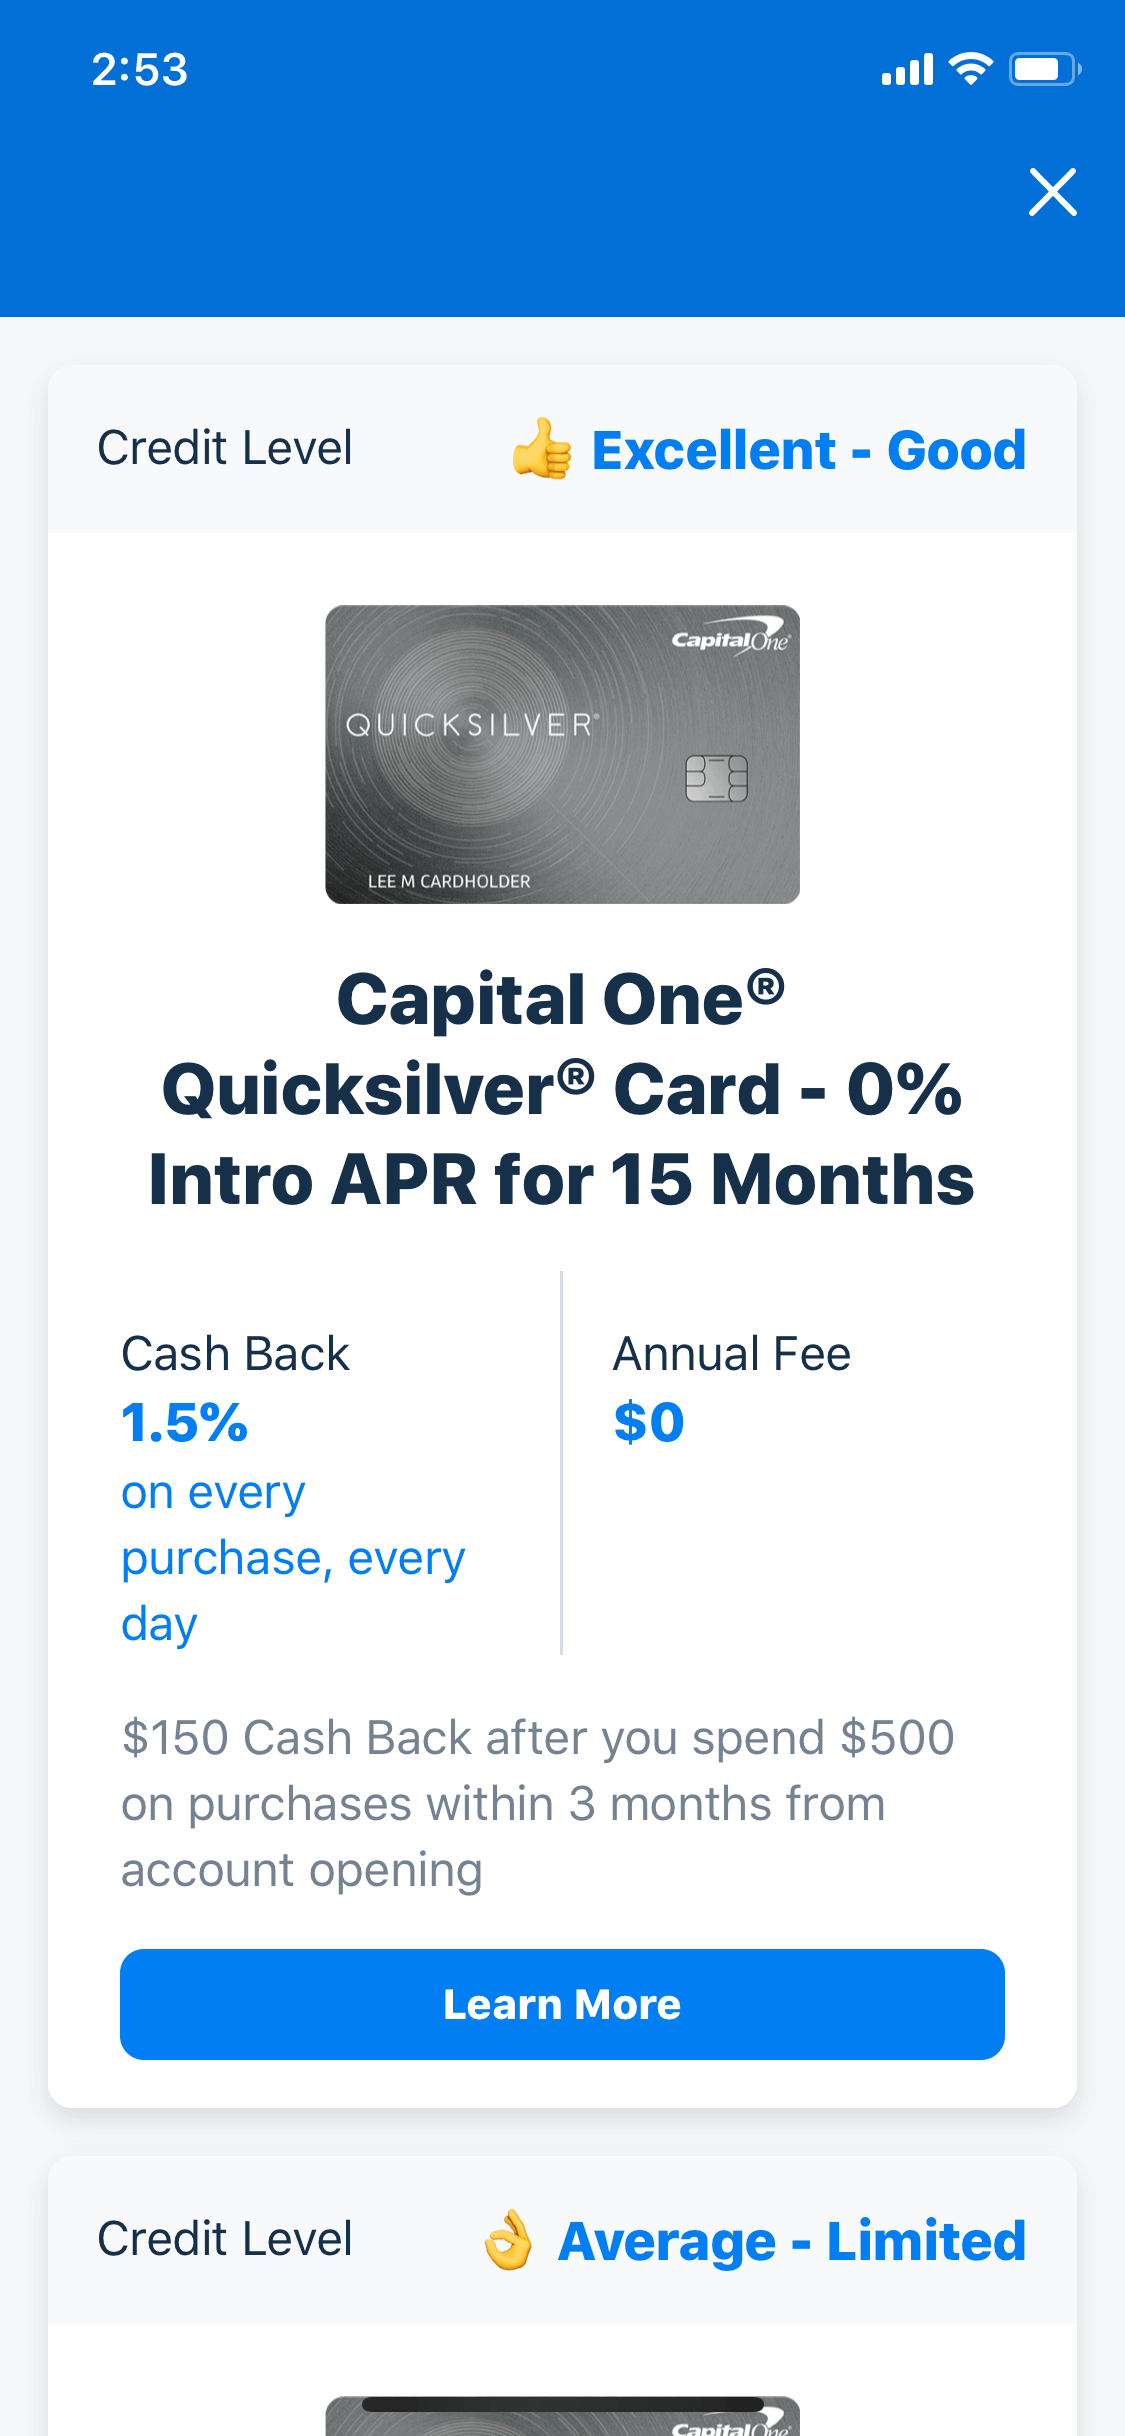Buttons: (109, 1933, 1024, 2080), (980, 130, 1114, 253)
